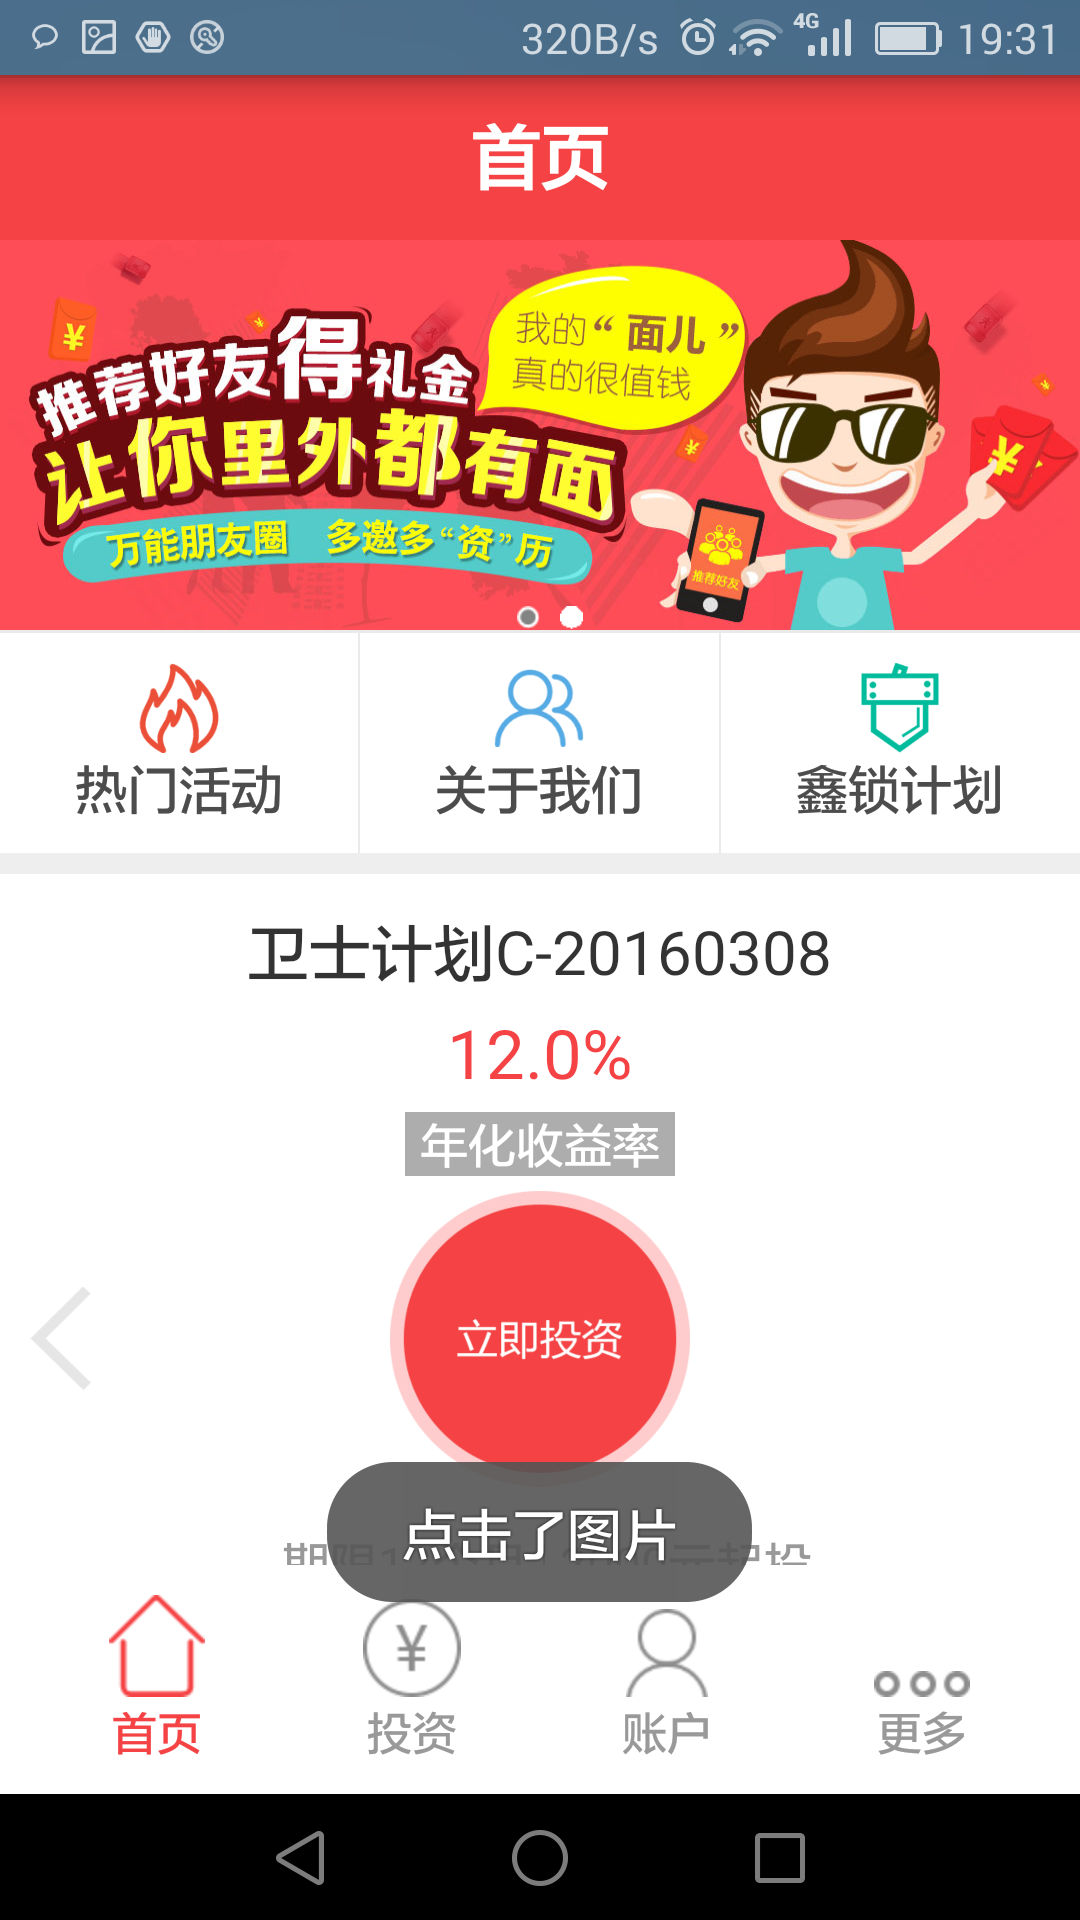alert: (324, 1453, 761, 1604)
